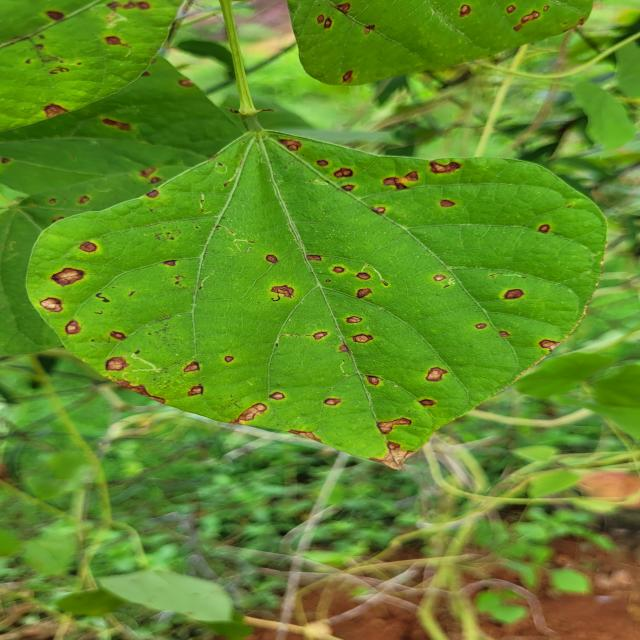Dolicos bean_cercospora leaf spot: (31, 132, 616, 469), (0, 50, 246, 252), (0, 0, 192, 143), (280, 0, 603, 79)
